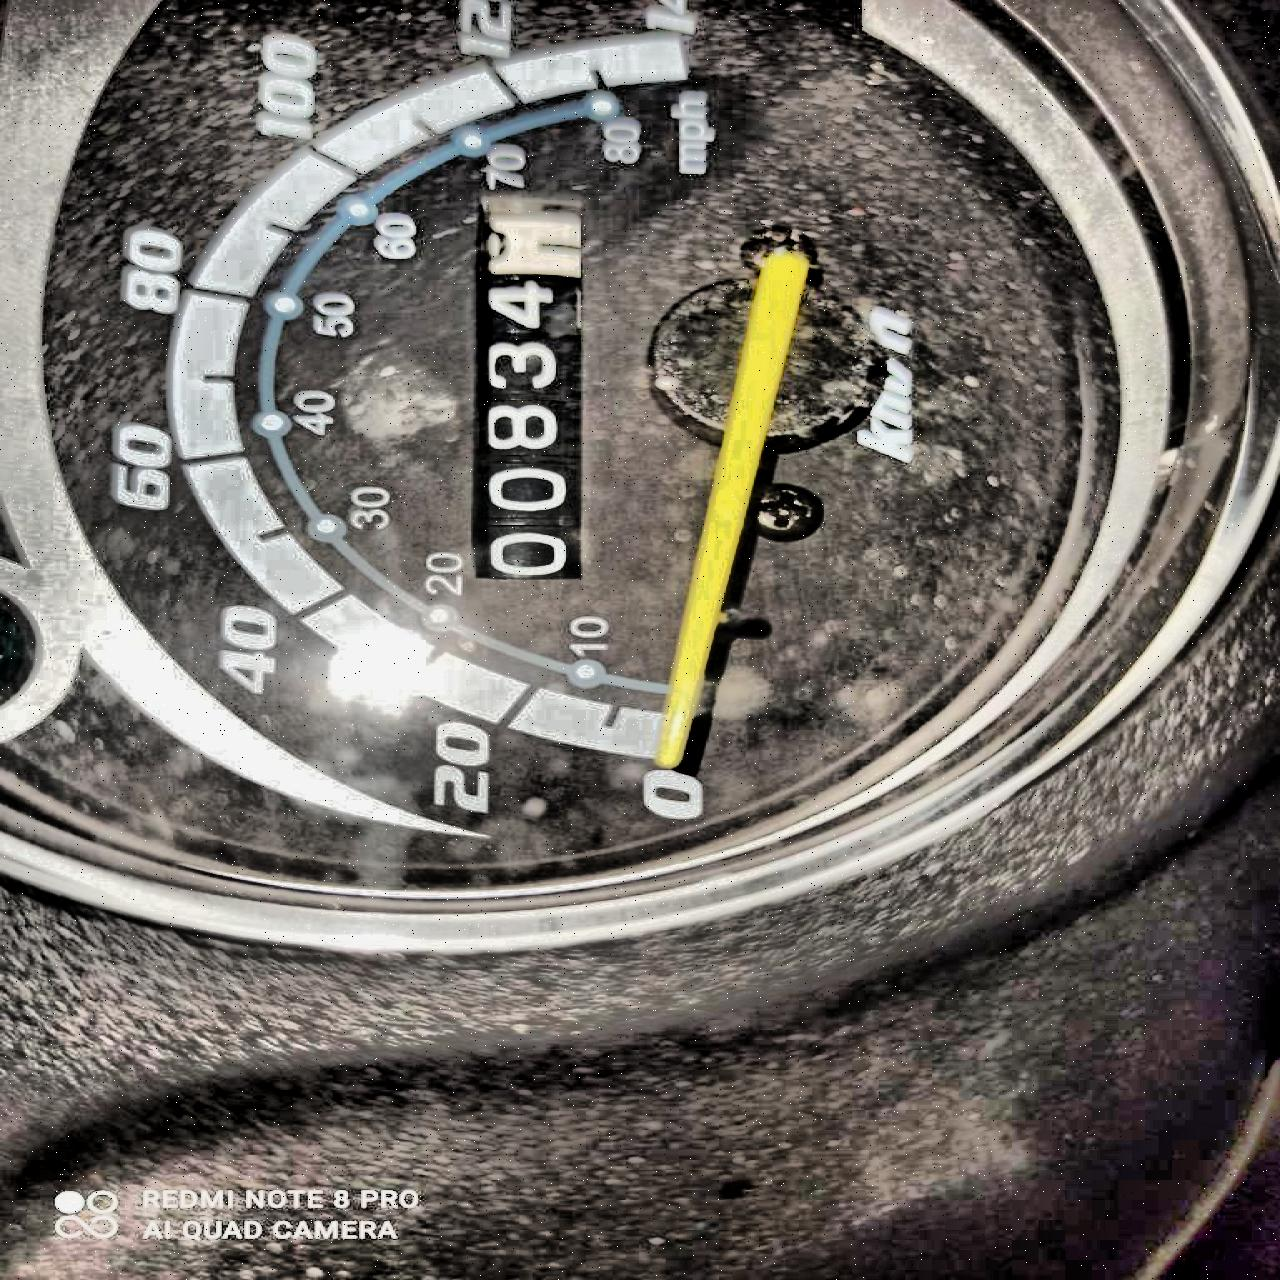0: (478, 530, 571, 579), (481, 464, 571, 515)
1: (524, 225, 585, 266)
3: (483, 336, 561, 393)
4: (481, 278, 564, 332)
8: (475, 400, 565, 454)
odometer: (456, 191, 602, 585)
